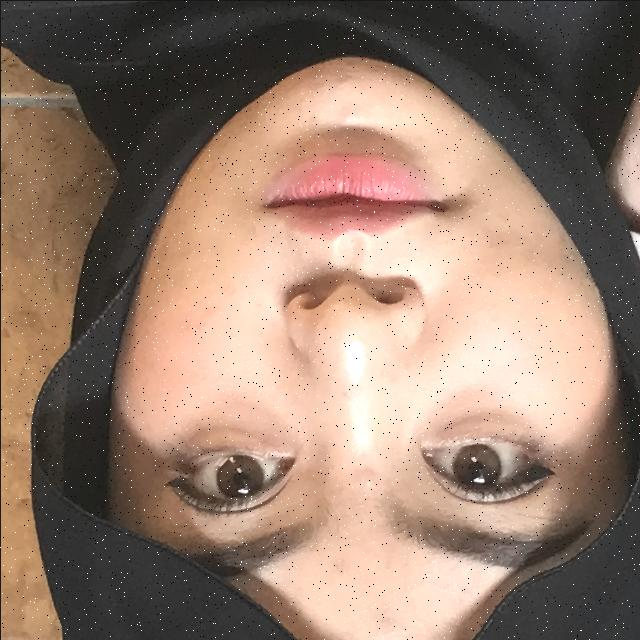ibu: (315, 0, 640, 464)
